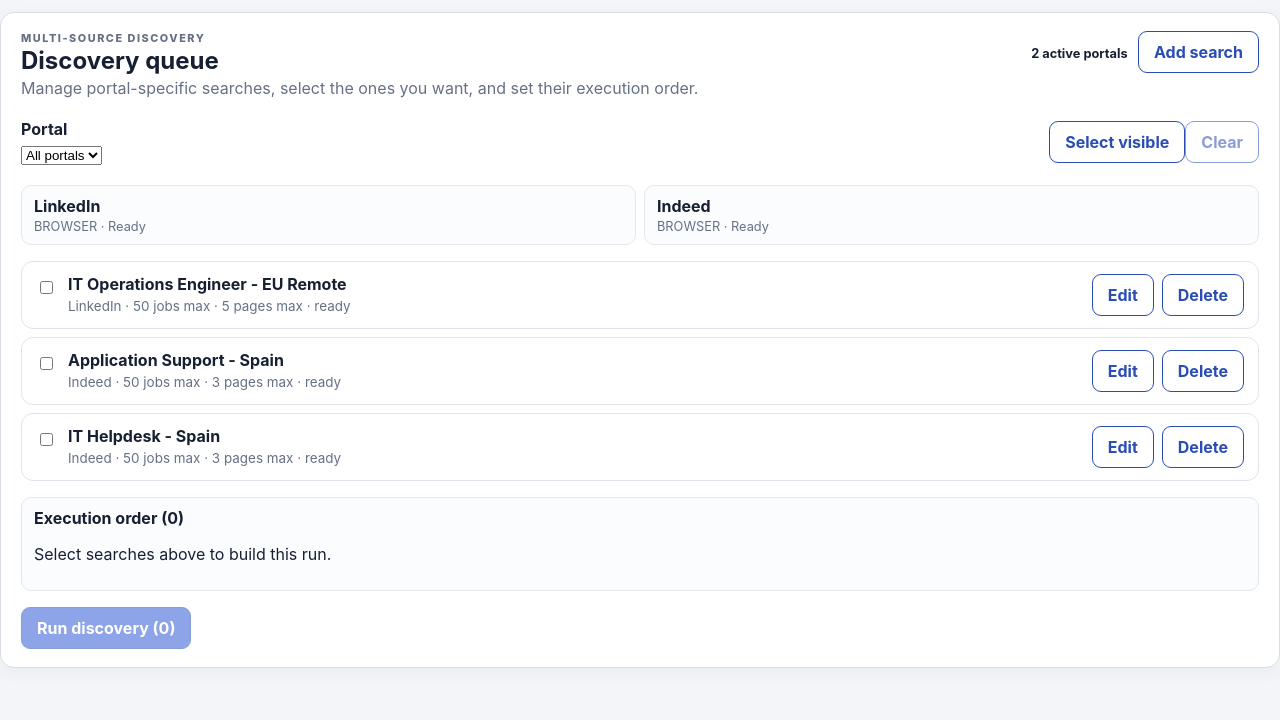
Test: filters saved searches by portal
Expected: the text "Application Support - Spain" is shown, [68, 350, 284, 370]
Select "Indeed" in the dropdown labelled "Portal": (62, 156) [21, 146, 102, 165]
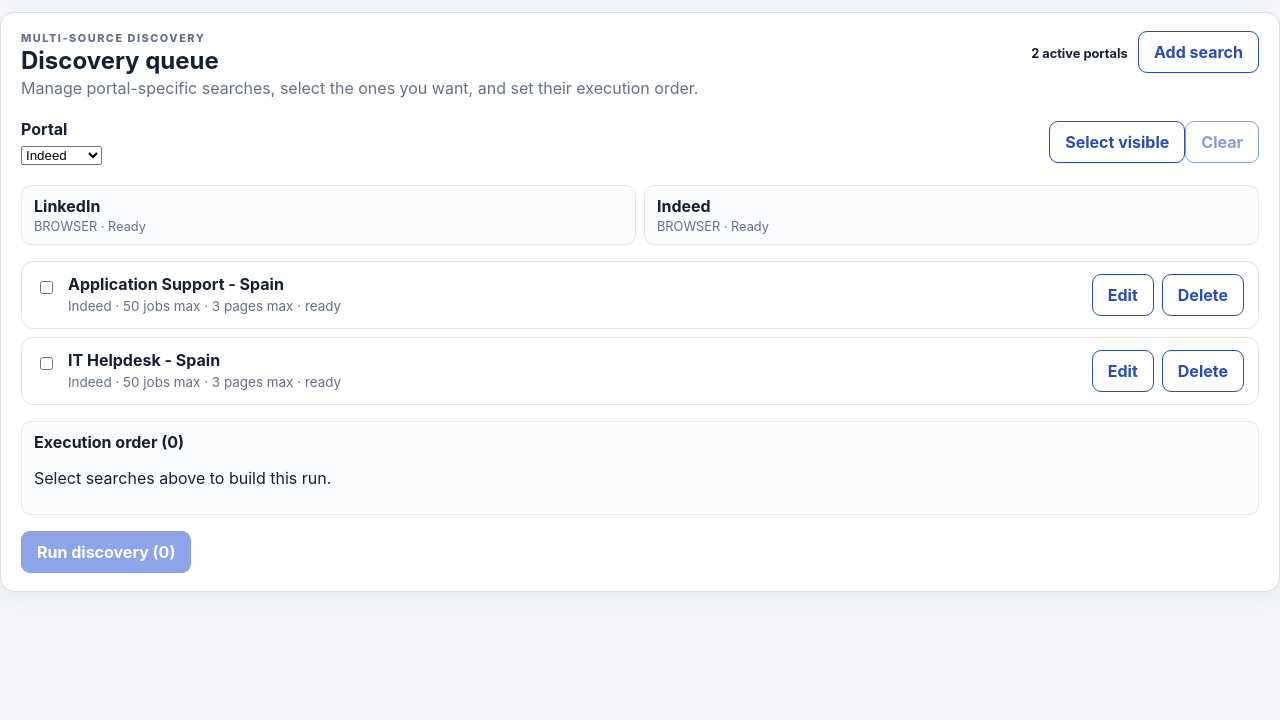
Expected: the text "Application Support - Spain" is shown, [68, 274, 284, 294]
Expected: the text "IT Operations Engineer - EU Remote" is gone
